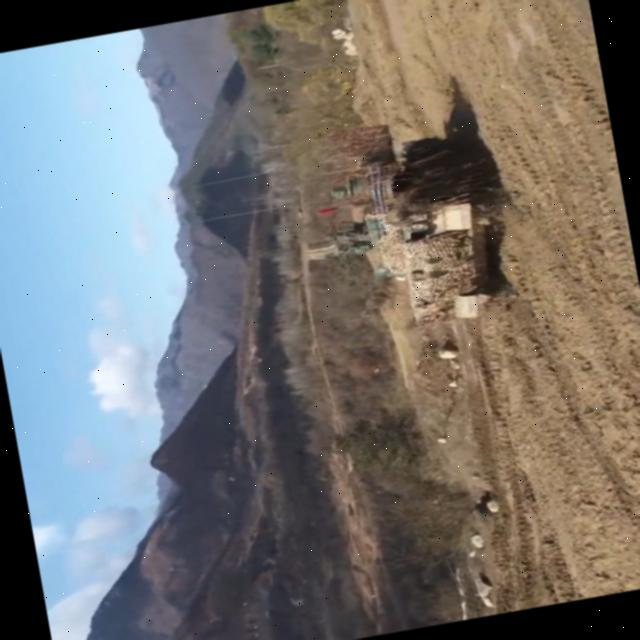korea tank: (304, 98, 531, 340)
